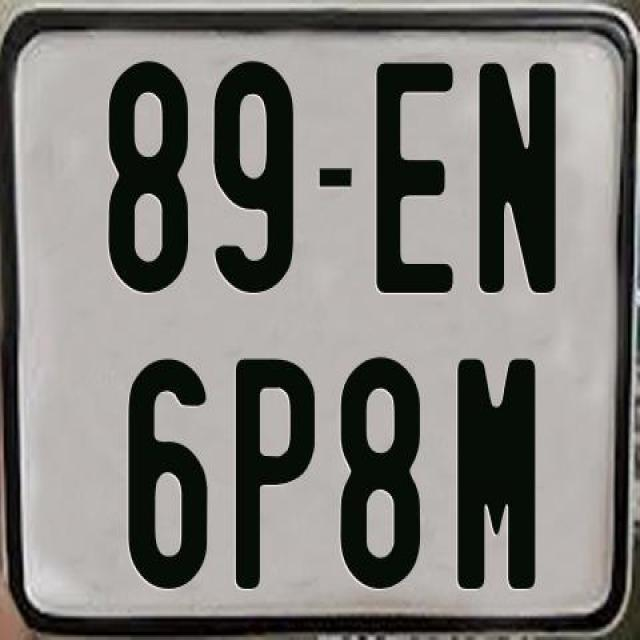6: (124, 353, 205, 584)
8: (105, 59, 194, 294), (338, 354, 422, 588)
9: (214, 59, 298, 293)
E: (373, 62, 455, 296)
M: (457, 356, 543, 590)
N: (474, 60, 558, 298)
P: (232, 355, 315, 586)
